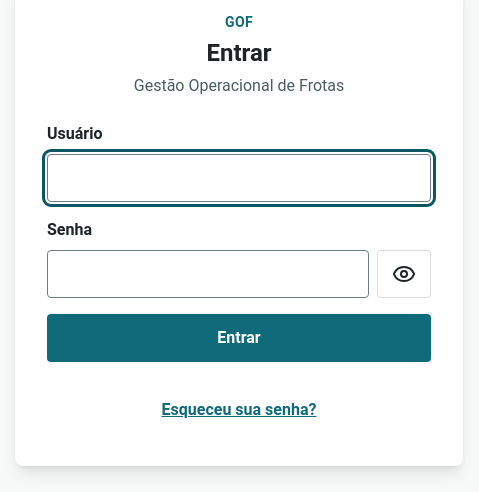
Test: Esqueci a senha (/esqueci-senha) › login tem o link "Esqueceu sua senha?" para a tela pública
This screenshot has width=479, height=492.
Click the link "Esqueceu sua senha?" at coordinates (239, 410), box [162,400,316,419]
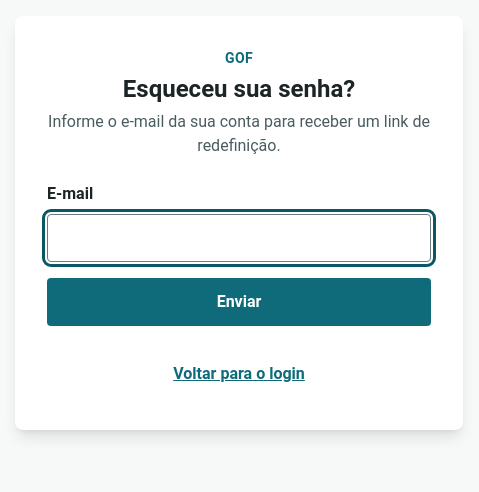
Expected: the heading "Esqueceu sua senha?" is shown, [123,75,355,103]
